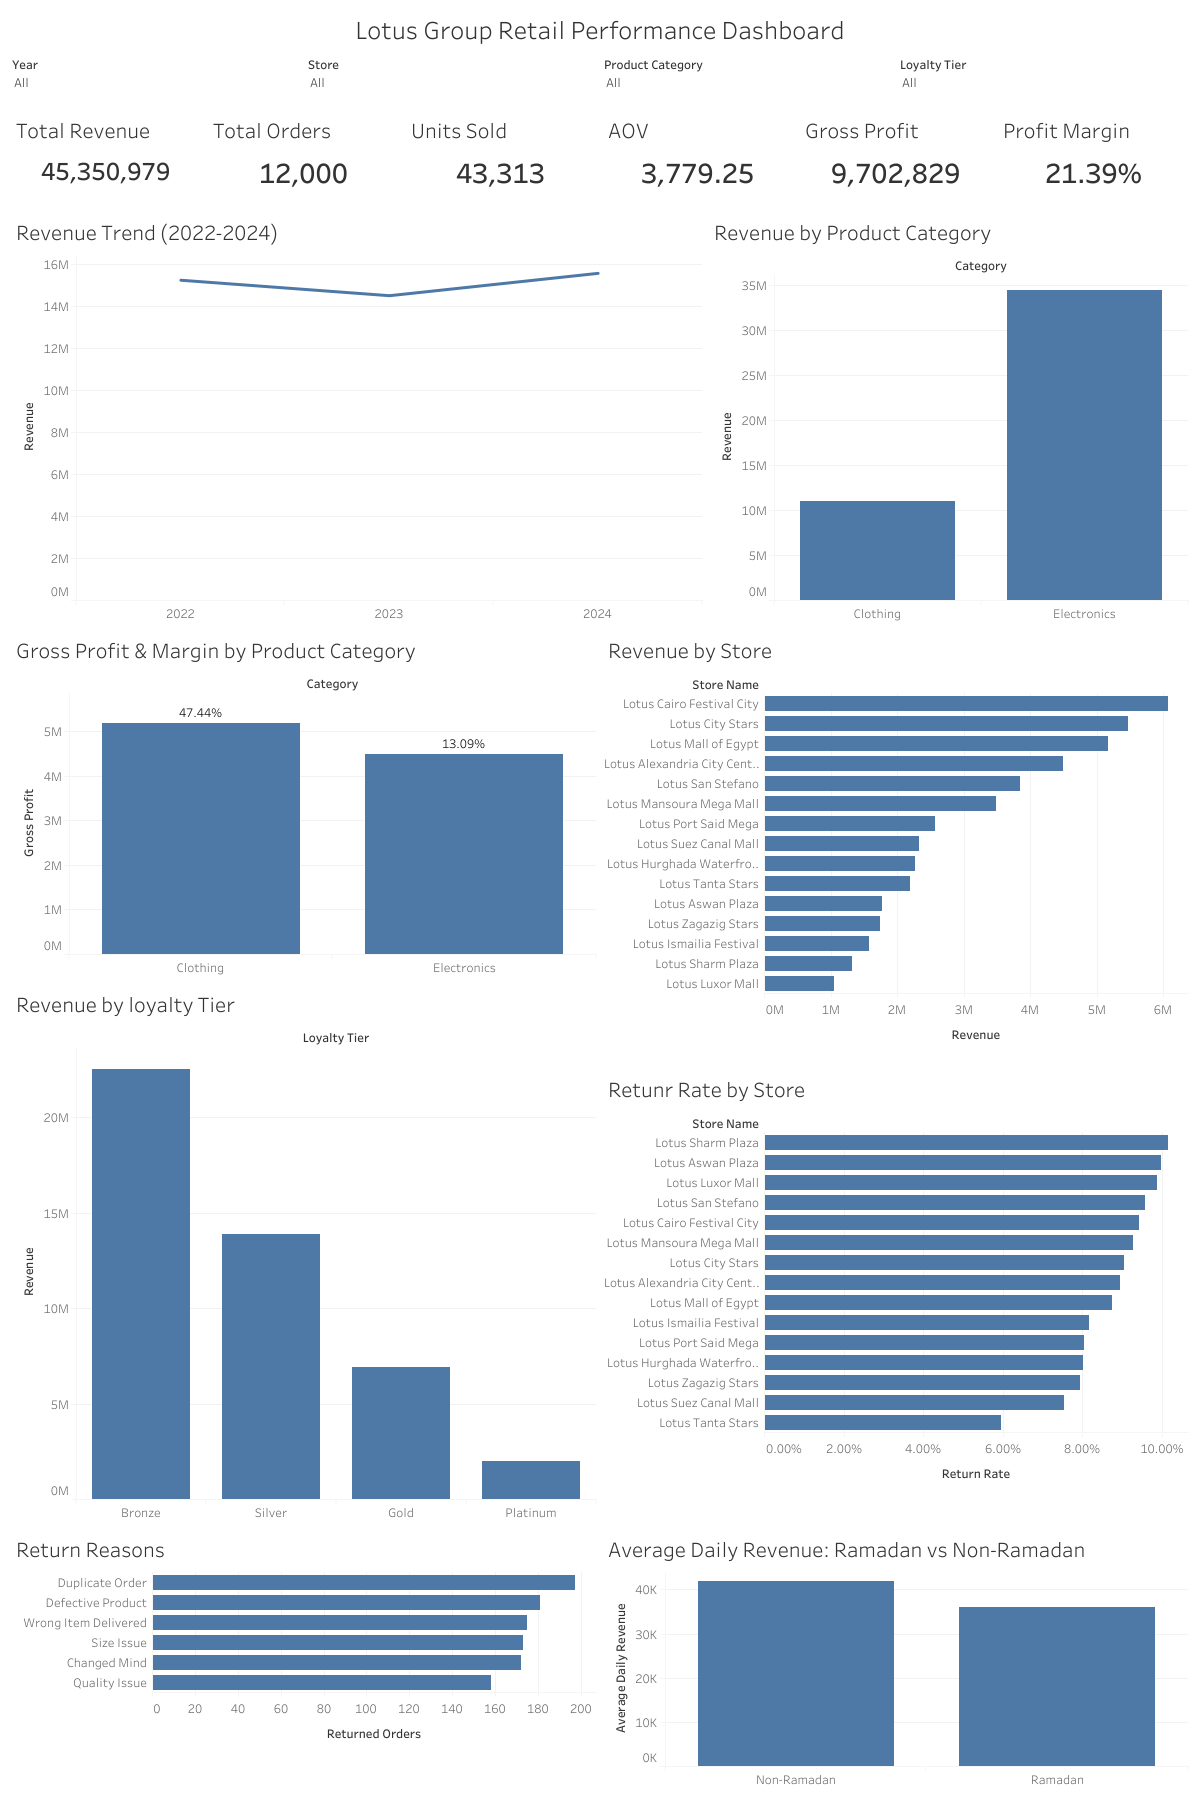

This screenshot's page, from the dashboard's own definition file:
{"tool":"tableau","page":{"name":"Lotus Group Retail Performance Dashboard","canvas":[1200,1800],"ordinal":0},"visuals":[{"type":"title","box":[8,8,1184,42]},{"type":"filter","title":"Chart - Revenue Trend","param":"[federated.1jsy4it1oirfoy1fht0bc085a2v6].[yr:order_date:ok]","box":[8,50,296,56]},{"type":"filter","title":"Chart - Revenue by Store","param":"[federated.1jsy4it1oirfoy1fht0bc085a2v6].[none:store_name:nk]","box":[304,50,296,56]},{"type":"filter","title":"Chart - Revenue by Category","param":"[federated.1jsy4it1oirfoy1fht0bc085a2v6].[none:category:nk]","box":[600,50,296,56]},{"type":"filter","title":"Chart - Revenue by Loyalty Tier","param":"[federated.1jsy4it1oirfoy1fht0bc085a2v6].[none:loyalty_tier:nk]","box":[896,50,296,56]},{"type":"worksheet","title":"KPI - Total Revenue","mark":"Automatic","box":[8,106,197.3,89]},{"type":"worksheet","title":"KPI - Total Orders","mark":"Automatic","box":[205.3,106,197.3,89]},{"type":"worksheet","title":"KPI - Units Sold","mark":"Automatic","box":[402.7,106,197.3,89]},{"type":"worksheet","title":"KPI - Average Order Value","mark":"Automatic","box":[600,106,197.3,89]},{"type":"worksheet","title":"KPI - Gross Profit","mark":"Automatic","box":[797.3,106,197.3,89]},{"type":"worksheet","title":"KPI - Profit Margin","mark":"Automatic","box":[994.6,106,197.3,89]},{"type":"worksheet","title":"Chart - Revenue Trend","mark":"Automatic","rows":["line_total_revenue"],"cols":["order_date"],"box":[8,208,697.6,418]},{"type":"worksheet","title":"Chart - Revenue by Category","mark":"Automatic","rows":["line_total_revenue"],"cols":["category"],"box":[705.6,208,486.4,418]},{"type":"worksheet","title":"Chart - Profitability by Category","mark":"Automatic","rows":["Calculation_0014823626195079"],"cols":["category"],"box":[8,626,592,354]},{"type":"worksheet","title":"Chart - Revenue by Store","mark":"Automatic","rows":["store_name"],"cols":["line_total_revenue"],"box":[600,626,592,439]},{"type":"worksheet","title":"Chart - Revenue by Loyalty Tier","mark":"Automatic","rows":["line_total_revenue"],"cols":["loyalty_tier"],"box":[8,980,592,545.1]},{"type":"worksheet","title":"Chart - Return Rate by Store","mark":"Automatic","rows":["store_name"],"cols":["Calculation_0014754948931598"],"box":[600,1065,592,460.1]},{"type":"worksheet","title":"Chart - Return Reasons","mark":"Automatic","rows":["return_reason"],"cols":["return_id"],"box":[8,1525.1,592,266.9]},{"type":"worksheet","title":"Chart - Average Daily Revenue: Ramadan vs Non-Ramadan","mark":"Automatic","rows":["Calculation_0014481719418962"],"cols":["Calculation_0014754941566988"],"box":[600,1525.1,592,266.9]}]}

Visuals, with their boxes in screenshot pixels (x1, y1, x2, y2), scaled from the page's 1200x1800 canvas onto the 1199x1799 screenshot:
title: left=8, top=8, right=1191, bottom=50
"Chart - Revenue Trend" filter: left=8, top=50, right=304, bottom=106
"Chart - Revenue by Store" filter: left=304, top=50, right=600, bottom=106
"Chart - Revenue by Category" filter: left=600, top=50, right=895, bottom=106
"Chart - Revenue by Loyalty Tier" filter: left=895, top=50, right=1191, bottom=106
"KPI - Total Revenue" worksheet: left=8, top=106, right=205, bottom=195
"KPI - Total Orders" worksheet: left=205, top=106, right=402, bottom=195
"KPI - Units Sold" worksheet: left=402, top=106, right=600, bottom=195
"KPI - Average Order Value" worksheet: left=600, top=106, right=797, bottom=195
"KPI - Gross Profit" worksheet: left=797, top=106, right=994, bottom=195
"KPI - Profit Margin" worksheet: left=994, top=106, right=1191, bottom=195
"Chart - Revenue Trend" worksheet: left=8, top=208, right=705, bottom=626
"Chart - Revenue by Category" worksheet: left=705, top=208, right=1191, bottom=626
"Chart - Profitability by Category" worksheet: left=8, top=626, right=600, bottom=979
"Chart - Revenue by Store" worksheet: left=600, top=626, right=1191, bottom=1064
"Chart - Revenue by Loyalty Tier" worksheet: left=8, top=979, right=600, bottom=1524
"Chart - Return Rate by Store" worksheet: left=600, top=1064, right=1191, bottom=1524
"Chart - Return Reasons" worksheet: left=8, top=1524, right=600, bottom=1791
"Chart - Average Daily Revenue: Ramadan vs Non-Ramadan" worksheet: left=600, top=1524, right=1191, bottom=1791
